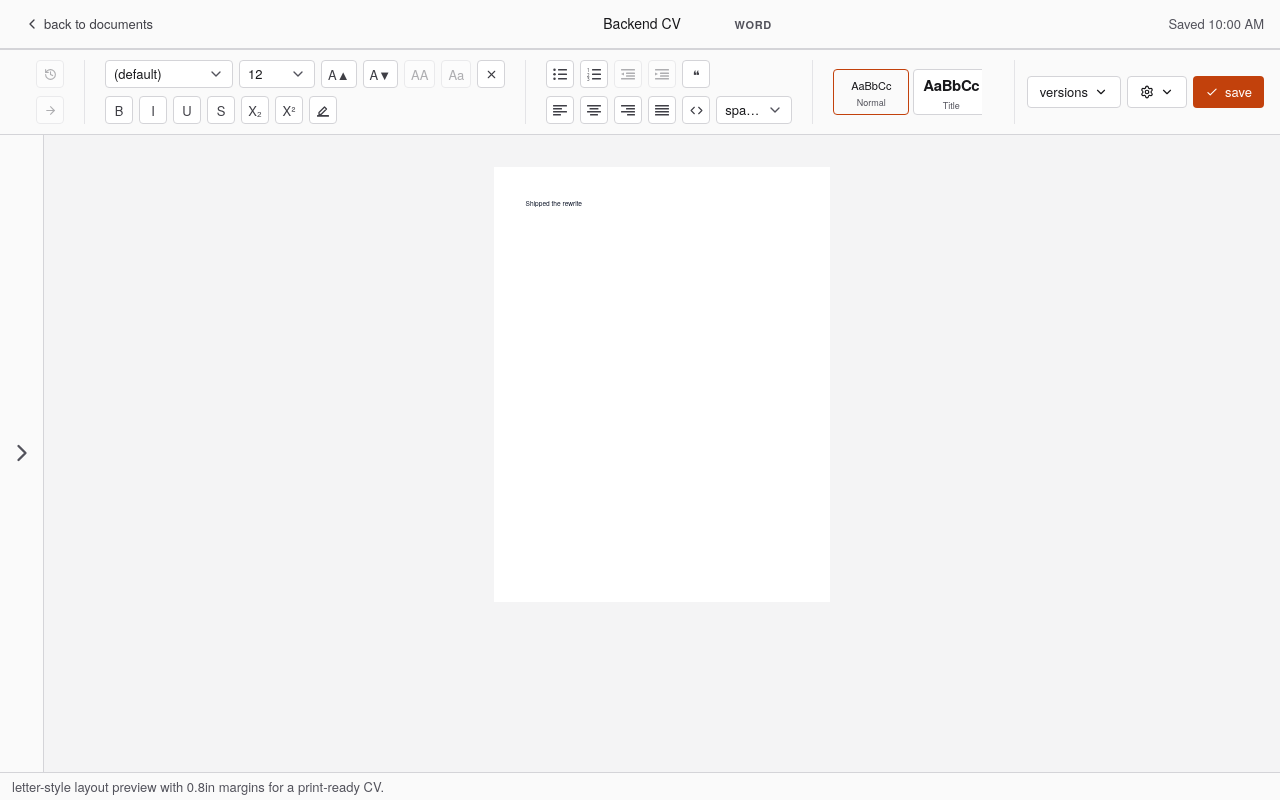
it: the export menu recommends .tex › marks exactly one row, and it is the .tex one
Click the button named "document actions". click: [1157, 92]
box: [1127, 76, 1187, 108]
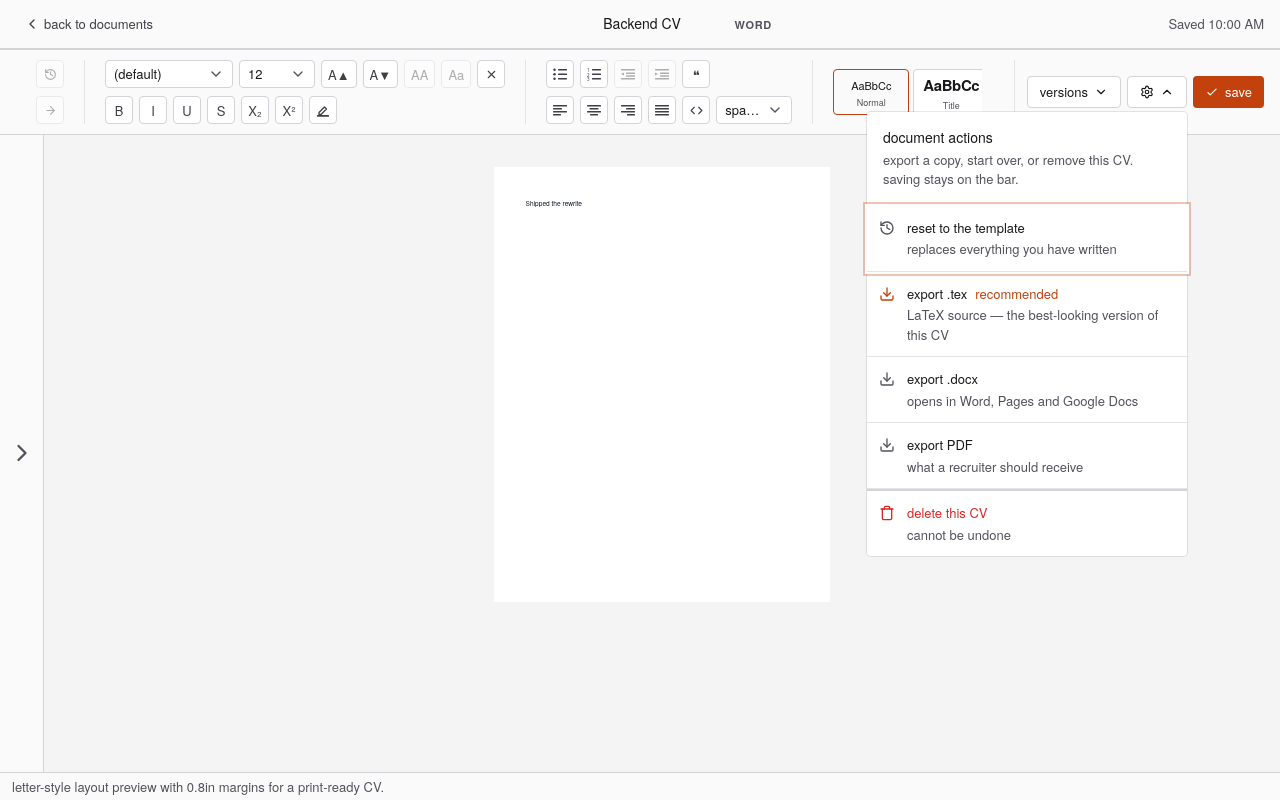
Expected: the text "recommended" is shown once, [975, 284, 1058, 303]
